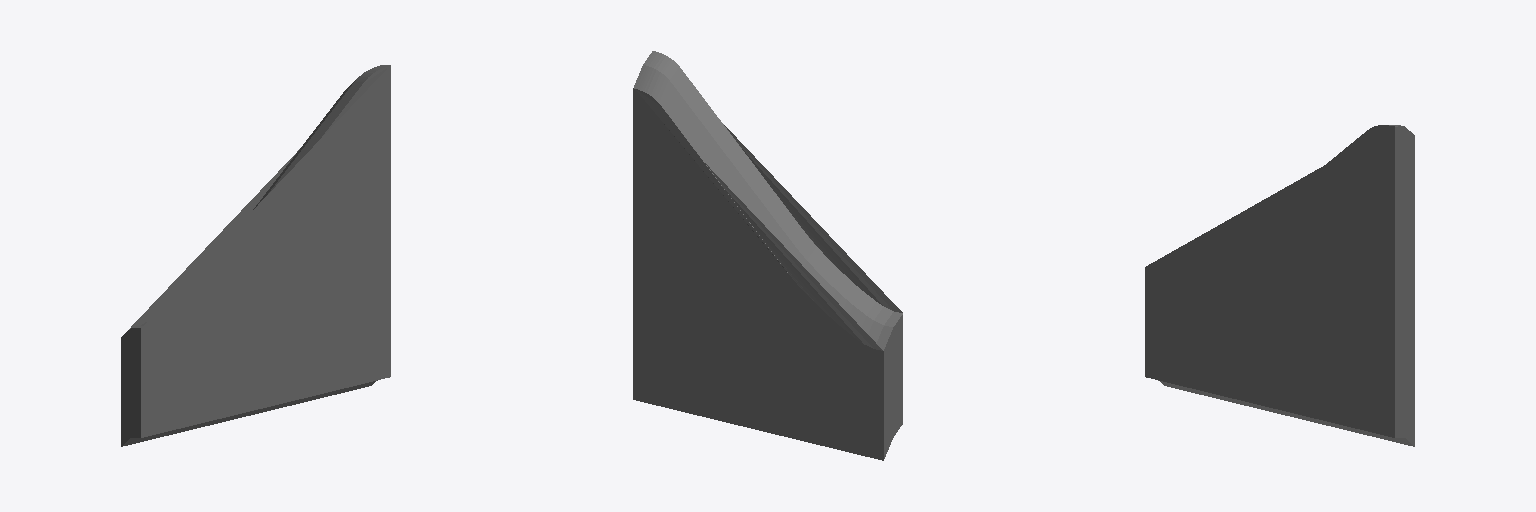
File: SlopeMesh3D_02.obj
3 renders of one model, left to right at view 1: azimuth 30°, elevation 25°; view 2: azimuth 150°, elevation 25°; view 3: azimuth 330°, elevation 25°, orthographic.
Visible parts, largest first — view 1: pasted__polySurface2 group; view 2: pasted__polySurface2 group; view 3: pasted__polySurface2 group.
Part boxes in pixels (left/top/right/bottom): pasted__polySurface2 group: left=121, top=65, right=390, bottom=446; pasted__polySurface2 group: left=633, top=51, right=902, bottom=460; pasted__polySurface2 group: left=1145, top=125, right=1414, bottom=446.
Size of the model in its own units: 5704 by 7285 by 804.